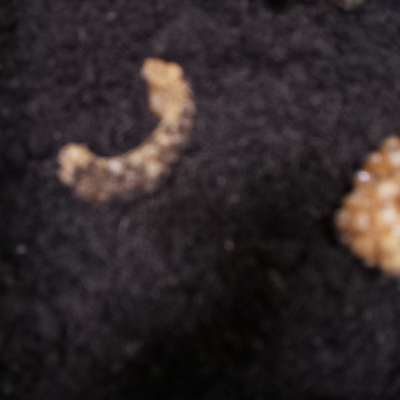eggs: (54, 54, 202, 215), (324, 124, 400, 283)
